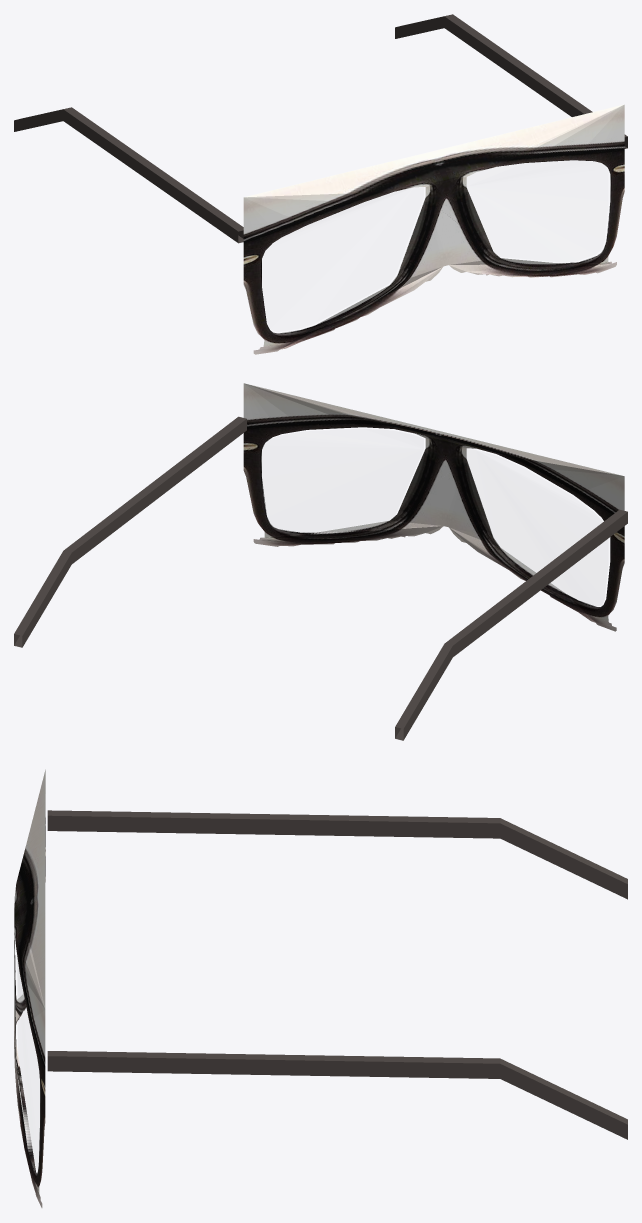
Rendered from gothamstyle-182_black.glb.
The picture shows the model from 3 angles, top to bottom: view 1: azimuth 30°, elevation 25°; view 2: azimuth 150°, elevation 25°; view 3: azimuth 270°, elevation 25°; orthographic projection. The views are drawn at different scales.
Parts seen in each view (by area): view 1: frame_front, temple_viewer_left, temple_viewer_right; view 2: frame_front, temple_viewer_left, temple_viewer_right; view 3: temple_viewer_left, temple_viewer_right, frame_front.
Boxes of the visible parts, <box> form: frame_front: <box>243,104,624,354</box>; temple_viewer_left: <box>14,107,243,243</box>; temple_viewer_right: <box>395,14,627,148</box>; frame_front: <box>243,383,624,631</box>; temple_viewer_left: <box>395,509,627,740</box>; temple_viewer_right: <box>14,416,246,647</box>; temple_viewer_left: <box>47,810,627,899</box>; temple_viewer_right: <box>47,1051,627,1139</box>; frame_front: <box>14,769,45,1207</box>.
Bounding box in the file's own units: 0.1383 × 0.0539 × 0.146.
3 materials, 2 textured.
